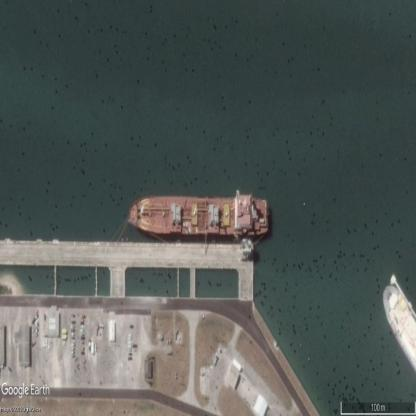ship: (128, 194, 268, 240)
